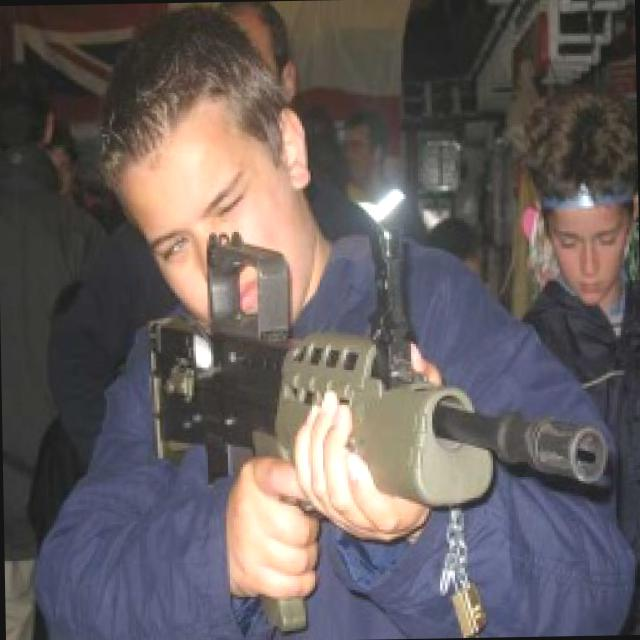long weapon: (142, 224, 620, 596)
